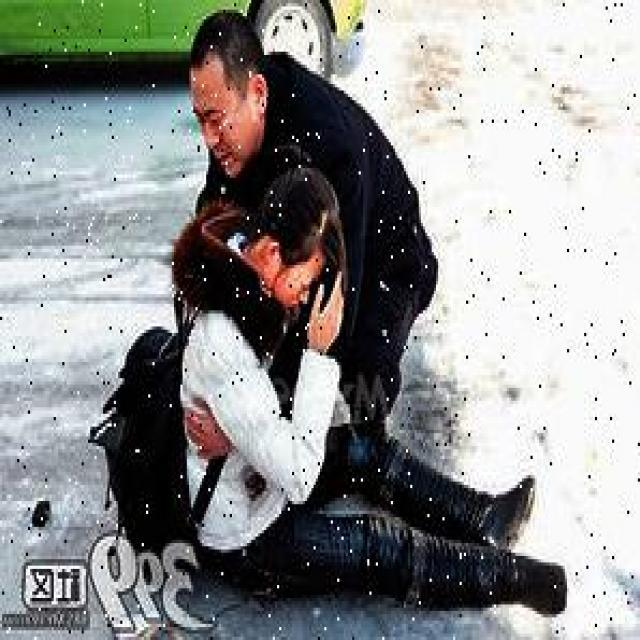fall: (176, 184, 567, 627)
